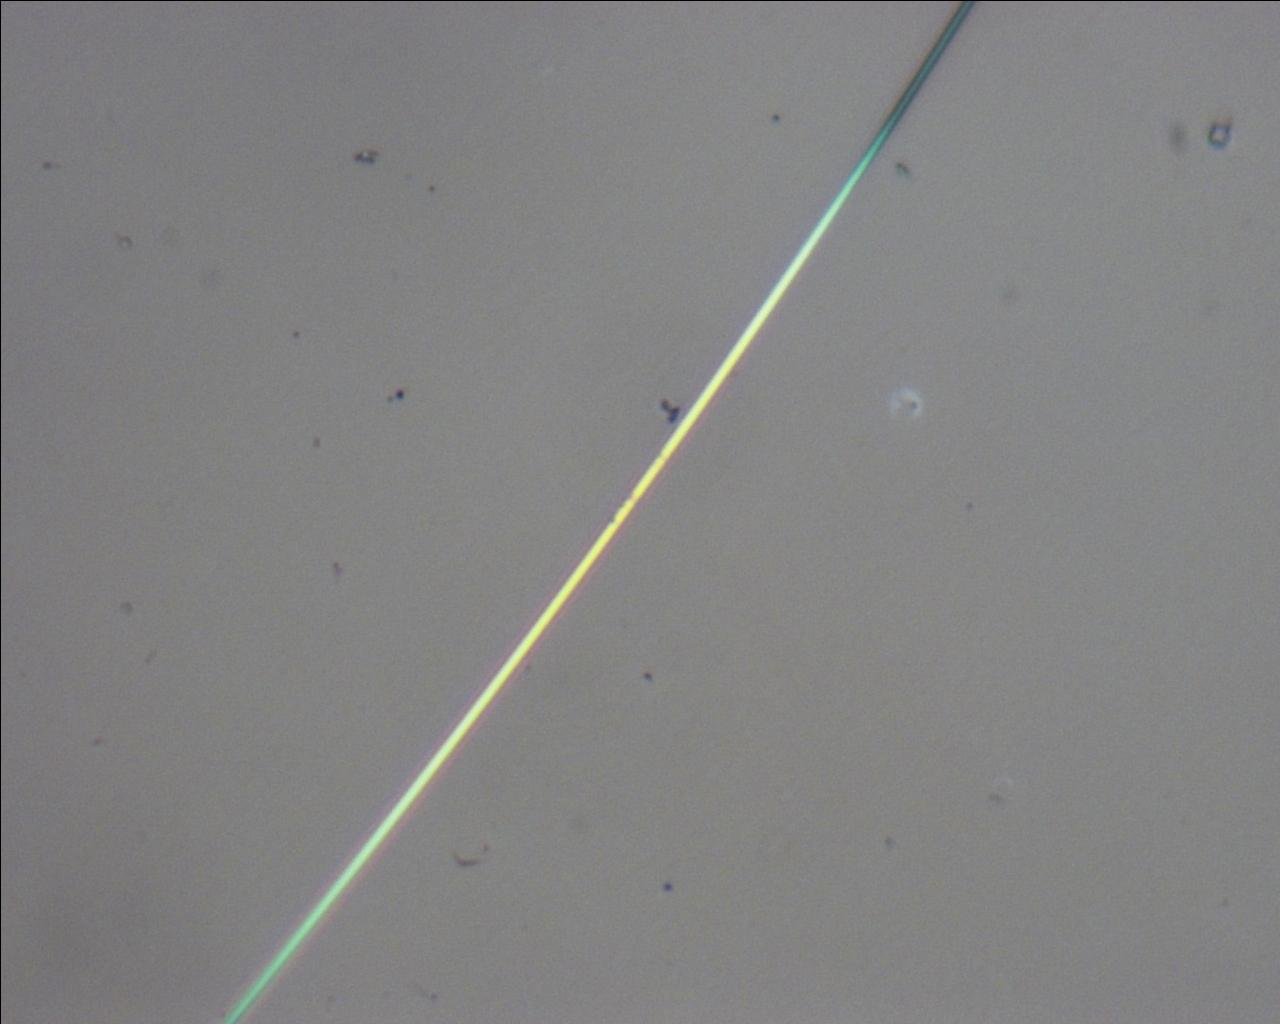fiber: (217, 0, 976, 1024)
